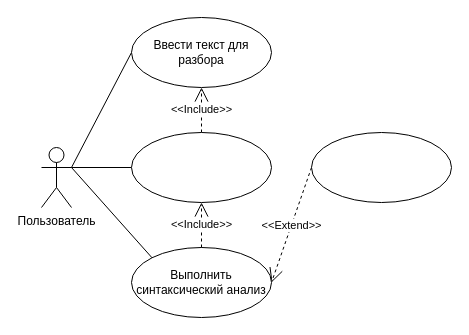
The diagram is 469 pixels wide and 335 high, and some of its shapes have lost their labels. Here are the shapes that lost their labels. From the top down, the centre of each, then its label:
At [201,167]: "Выполнить лексический анализ".
At [381,167]: "Разбор сложного логического выражения".
